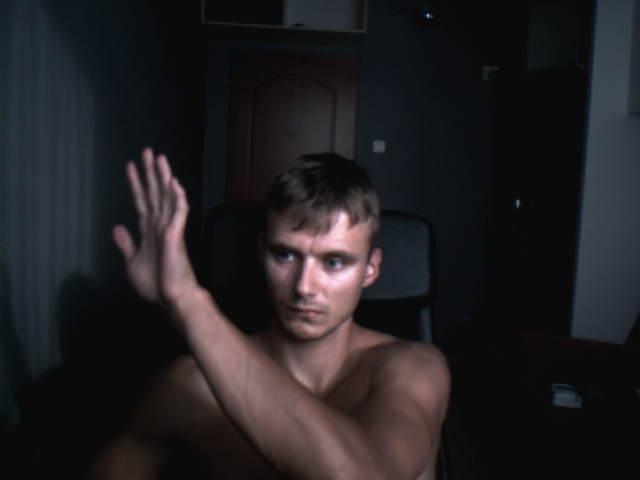open: (109, 147, 192, 304)
